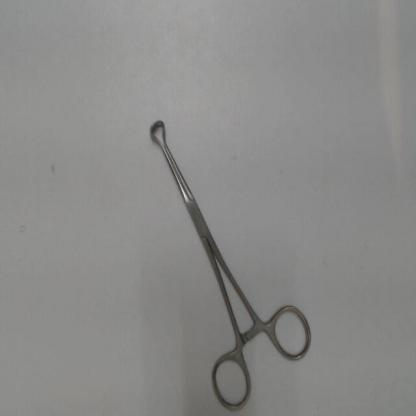Babcock Tissue Forceps: (148, 112, 317, 413)
